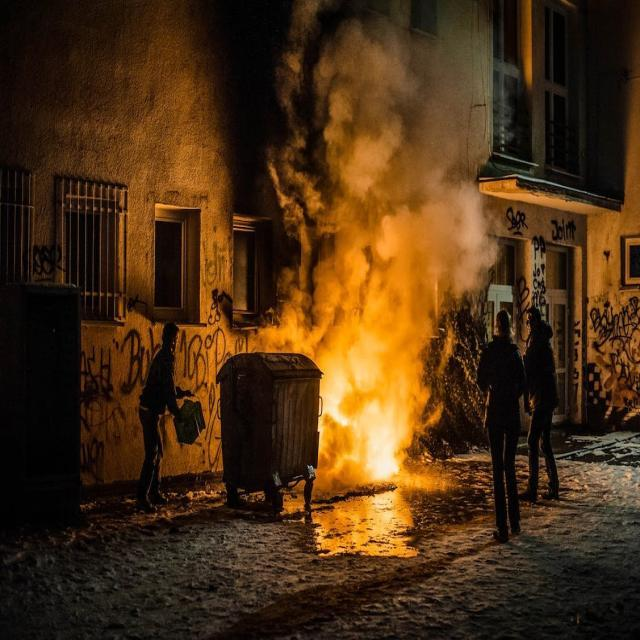Fire: (319, 366, 405, 482)
Smoke: (262, 0, 497, 481)
